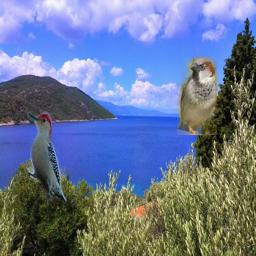Sparrow: (177, 57, 217, 135)
Woodpecker: (27, 111, 67, 204)
